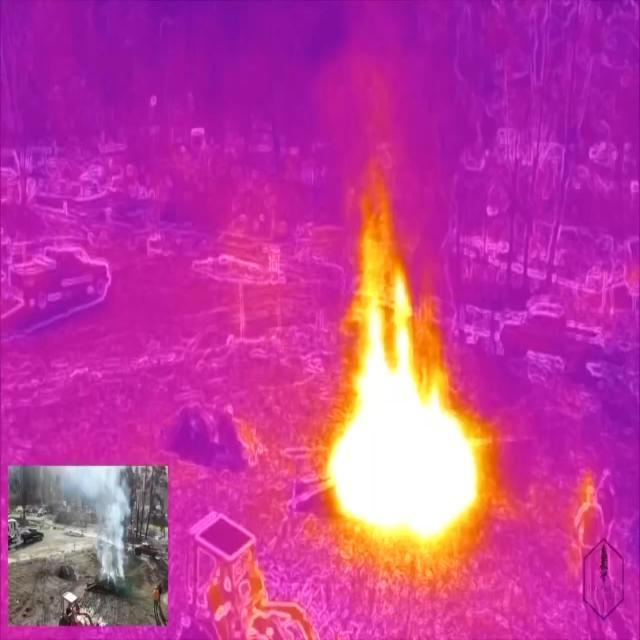fire: (328, 279, 480, 544)
